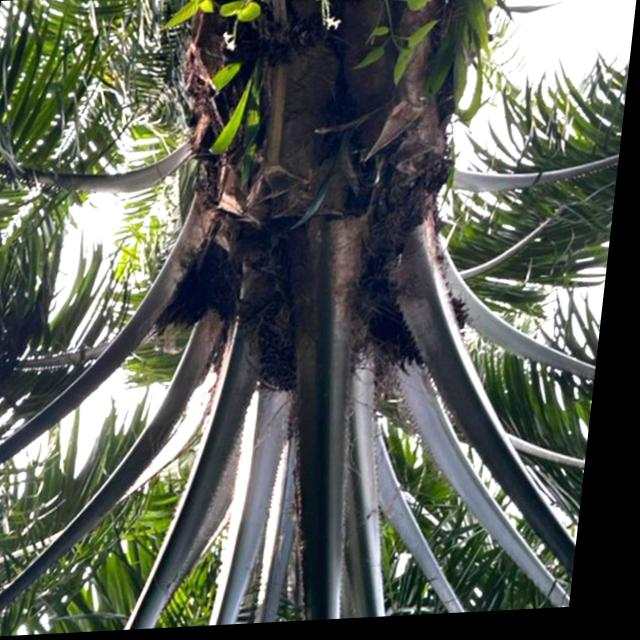unripe: (240, 298, 317, 405)
